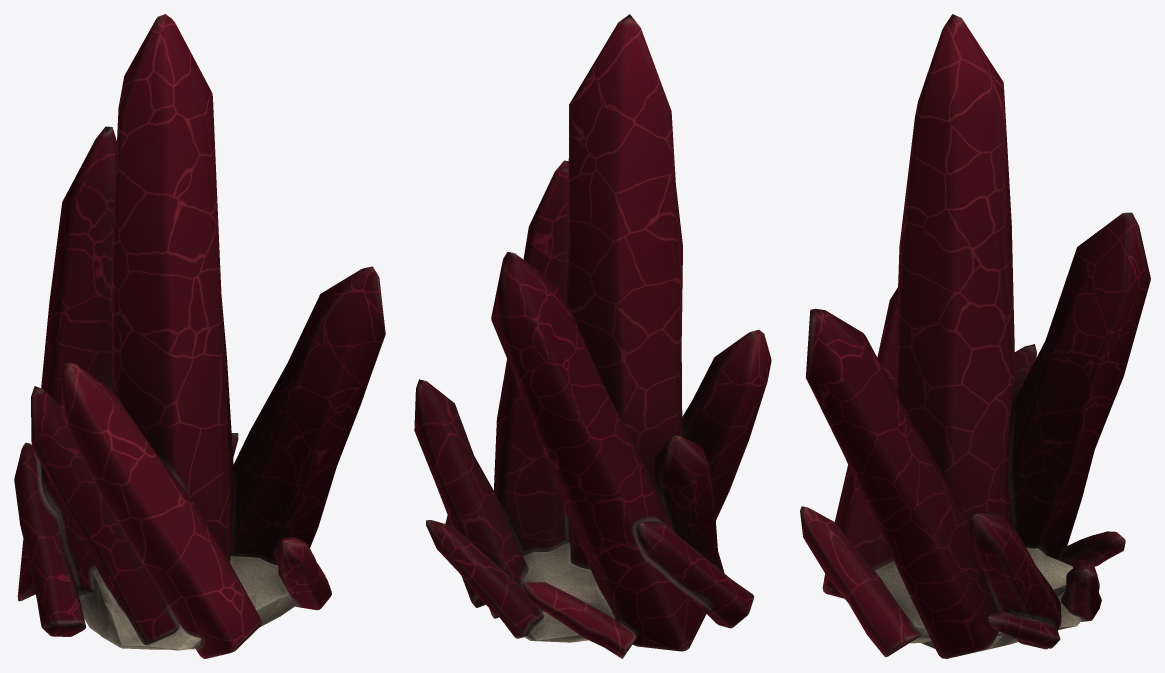
File: BloodCrystal.fbx
The picture shows the model from 3 angles, left to right: view 1: azimuth 30°, elevation 25°; view 2: azimuth 150°, elevation 25°; view 3: azimuth 270°, elevation 25°; orthographic projection. The views are drawn at different scales.
Parts seen in each view (by area): view 1: BloodCrystal; view 2: BloodCrystal; view 3: BloodCrystal.
Part boxes in pixels (<box>): BloodCrystal: <box>14,14,385,658</box>; BloodCrystal: <box>414,14,771,658</box>; BloodCrystal: <box>800,14,1150,658</box>.
Bounding box in the file's own units: 177 × 324 × 168.
